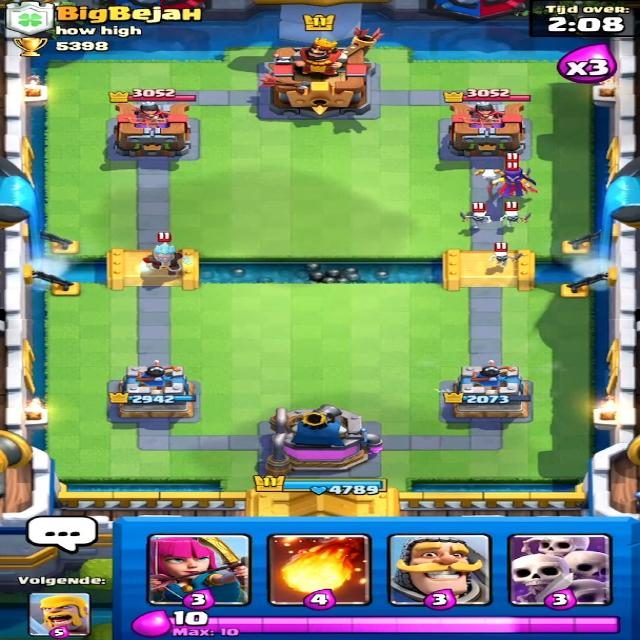Enemy_Ice_Wizard_Troop: (140, 243, 195, 278)
Enemy_Skeleton_Troop: (462, 207, 497, 229), (488, 246, 520, 269), (496, 205, 525, 228)
Enemy_Witch_Troop: (480, 161, 543, 207)
Fireball_Card: (260, 535, 378, 604)
